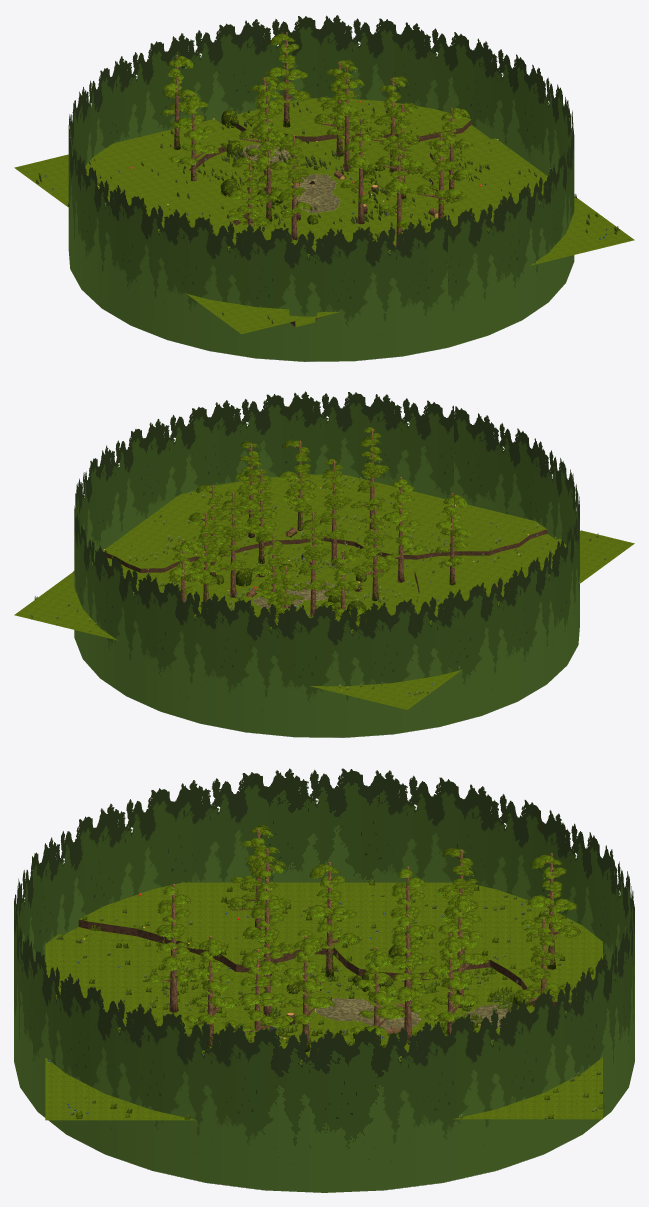
The model's file is SceneForest.glb.
3 renders of one model, top to bottom at view 1: azimuth 30°, elevation 25°; view 2: azimuth 150°, elevation 25°; view 3: azimuth 270°, elevation 25°, orthographic. The views are drawn at different scales.
Parts seen in each view (by area): view 1: AwayForest, Ground, Foliage, ArbolD.008, ArbolD.010, Arbol.004, Arbol.002, ArbolD.006, ArbolD.001, Arbol, Arbol.003, ArbolD.004 (+9 smaller); view 2: AwayForest, Ground, Foliage, ArbolD.005, Arbol.004, ArbolD.008, Arbol, Arbol.001, ArbolD.004, Arbol.002, ArbolD.001, ArbolD.002 (+7 smaller); view 3: AwayForest, Ground, Foliage, Arbol.003, ArbolD.005, Arbol, ArbolD.009, ArbolD, Arbol.002, ArbolD.008, ArbolD.004, ArbolD.002 (+8 smaller).
Part boxes in pixels (x1,y1,x2,y2): AwayForest: (68, 15, 574, 361); Ground: (14, 98, 634, 334); Foliage: (36, 101, 619, 324); ArbolD.008: (416, 131, 468, 218); ArbolD.010: (265, 32, 311, 127); Arbol.004: (277, 134, 312, 240); Arbol.002: (340, 118, 379, 224); ArbolD.006: (169, 93, 218, 181); ArbolD.001: (228, 156, 271, 227); Arbol: (326, 66, 365, 171); Arbol.003: (378, 143, 417, 246); ArbolD.004: (377, 102, 429, 198); AwayForest: (74, 391, 579, 737); Ground: (14, 474, 634, 709); Foliage: (30, 471, 606, 696); ArbolD.005: (351, 503, 397, 601); Arbol.004: (383, 477, 425, 582); ArbolD.008: (279, 440, 316, 530); Arbol: (217, 490, 250, 597); Arbol.001: (292, 510, 330, 616); ArbolD.004: (240, 469, 277, 563); Arbol.002: (315, 459, 351, 566); ArbolD.001: (435, 493, 470, 585); ArbolD.002: (186, 512, 221, 607); AwayForest: (14, 768, 634, 1192); Ground: (45, 882, 602, 1120); Foliage: (48, 877, 604, 1119); Arbol.003: (146, 884, 201, 1012); ArbolD.005: (297, 862, 360, 977); Arbol: (383, 914, 435, 1042); ArbolD.009: (521, 853, 581, 970); ArbolD: (223, 949, 289, 1040); Arbol.002: (240, 888, 294, 1016); ArbolD.008: (184, 936, 239, 1046); ArbolD.004: (282, 936, 334, 1051); ArbolD.002: (424, 933, 479, 1035).
Size of what is drawn, in the model's own units: 50.07 by 16.66 by 50.07.
20 materials, 20 textured.
